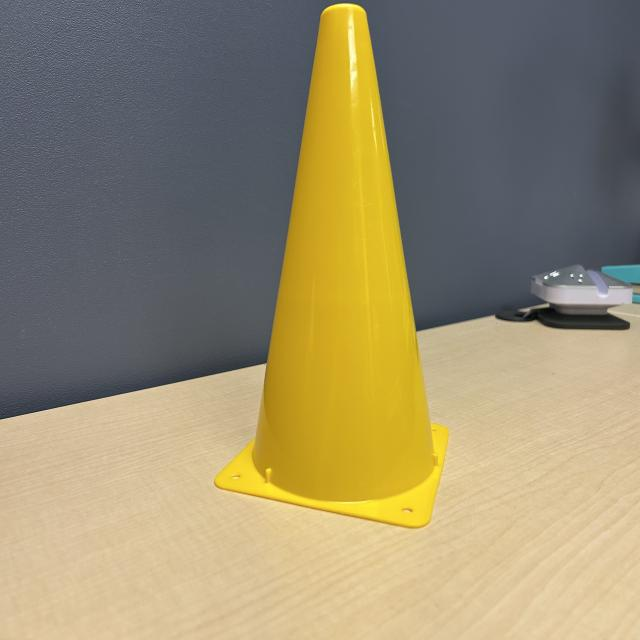yellow cone: (212, 2, 460, 536)
